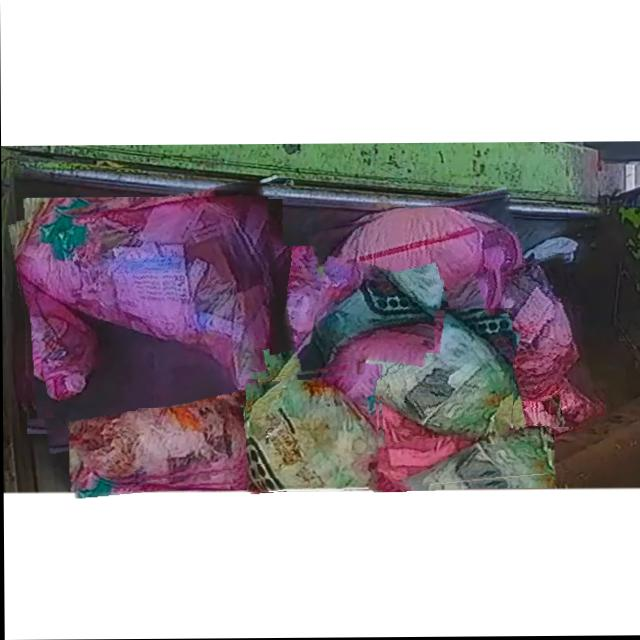general_trashbag: (357, 310, 512, 442), (246, 380, 380, 492), (316, 267, 433, 351)
other_trashbag: (18, 197, 268, 410), (318, 208, 521, 314), (223, 247, 362, 380), (489, 265, 599, 427), (372, 395, 548, 489), (69, 409, 256, 481)
